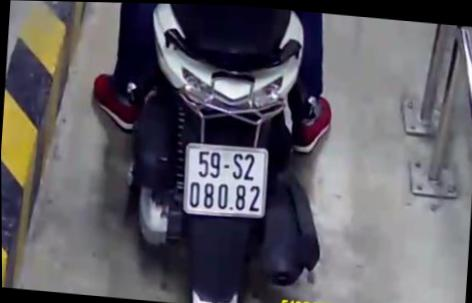LP: (179, 140, 271, 219)
